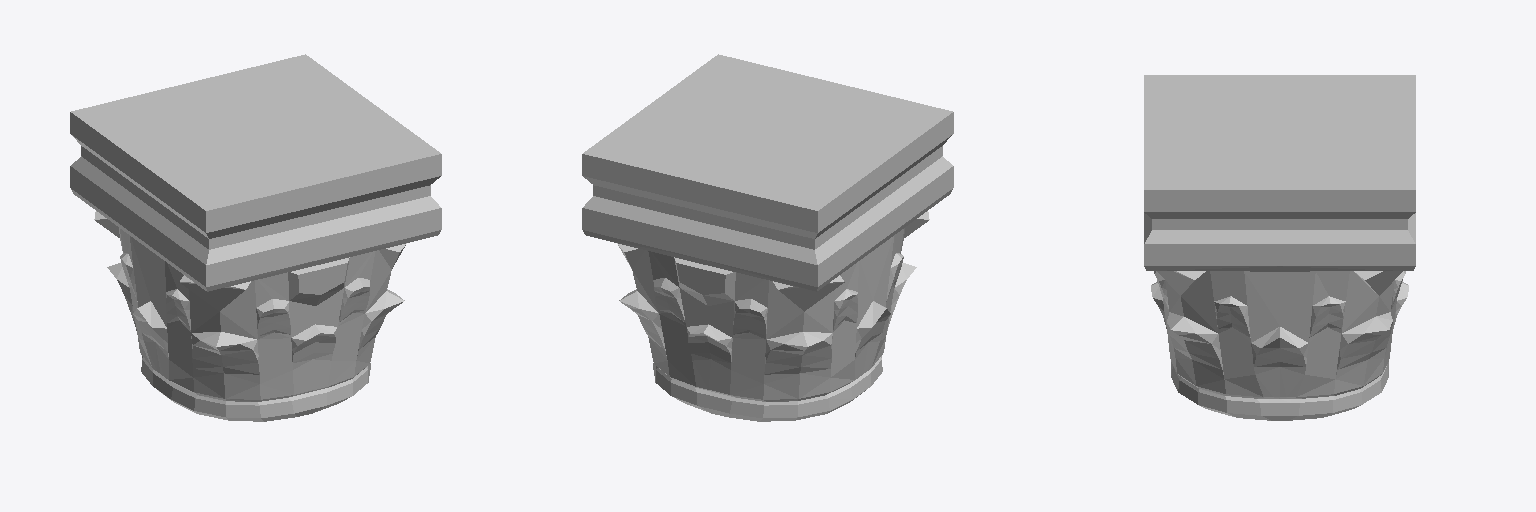
Rendered from Marblepillartop.obj.
3 renders of one model, left to right at view 1: azimuth 30°, elevation 25°; view 2: azimuth 150°, elevation 25°; view 3: azimuth 270°, elevation 25°, orthographic.
Visible parts, largest first — view 1: Circle; view 2: Circle; view 3: Circle.
Boxes of the visible parts, x1,y1,x2,y2 form: Circle: [70, 54, 441, 421]; Circle: [582, 54, 953, 421]; Circle: [1144, 75, 1415, 420].
Size of the model in its own units: 1.01 by 1 by 1.